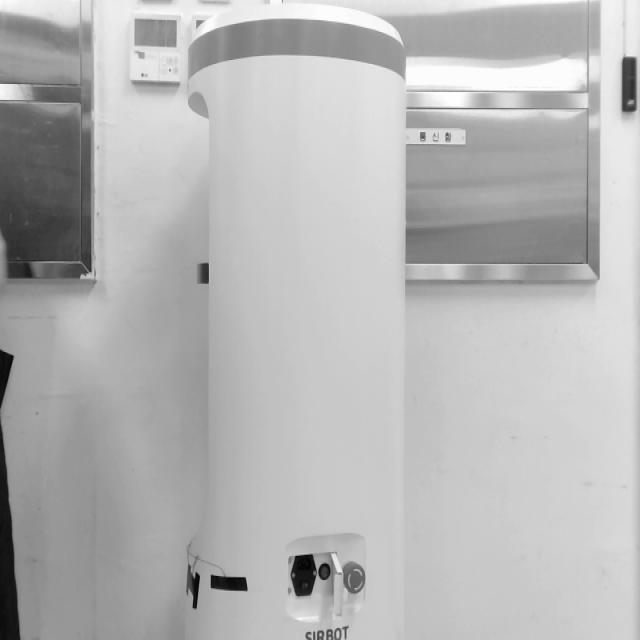sirbot: (190, 8, 407, 640)
